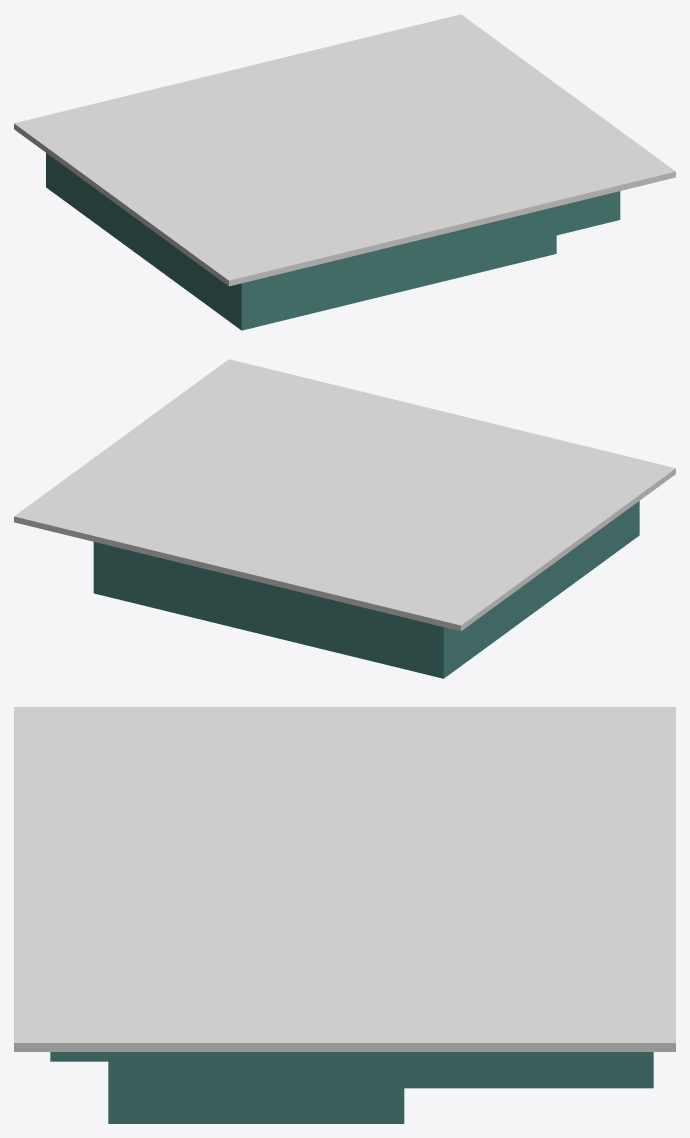
The model's file is indoorSpy.fbx.
3 views of the same model, one above another, from view 1: azimuth 30°, elevation 25°; view 2: azimuth 150°, elevation 25°; view 3: azimuth 270°, elevation 25° (orthographic). The views are drawn at different scales.
Visible parts, largest first — view 1: IndoorSpy; view 2: IndoorSpy; view 3: IndoorSpy.
Part boxes in pixels (x1=…): IndoorSpy: x1=14, y1=14, x2=675, y2=330; IndoorSpy: x1=14, y1=359, x2=675, y2=678; IndoorSpy: x1=14, y1=707, x2=675, y2=1123.
Bounding box in the file's own units: 2809 × 388 × 2338.
